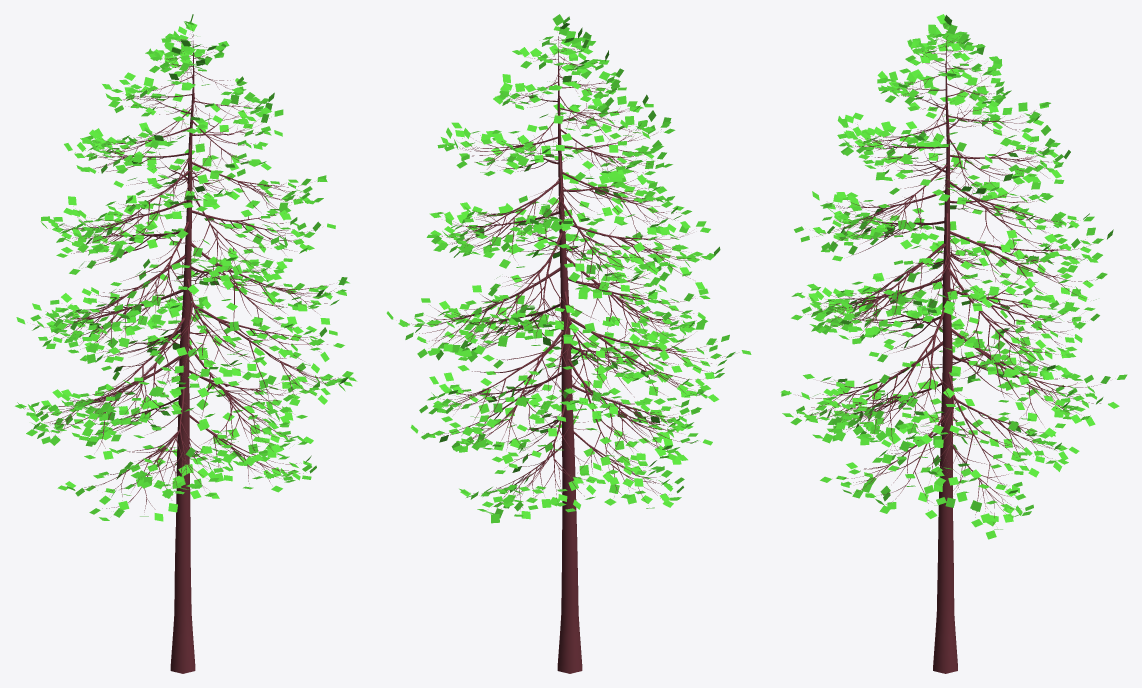
The model's file is Treev1.fbx.
3 renders of one model, left to right at view 1: azimuth 30°, elevation 25°; view 2: azimuth 150°, elevation 25°; view 3: azimuth 270°, elevation 25°, orthographic.
Parts seen in each view (by area): view 1: leaves, tree; view 2: leaves, tree; view 3: leaves, tree.
Part boxes in pixels (x1,y1,x2,y2): leaves: (15,14,357,521); tree: (25,30,339,673); leaves: (386,14,751,523); tree: (406,26,727,673); leaves: (780,14,1127,539); tree: (798,24,1108,673).
Size of the model in its own units: 1896 by 4013 by 1920.
